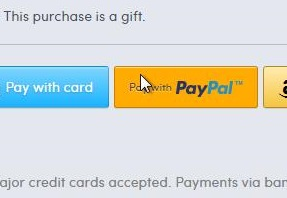cursor: (139, 73, 152, 93)
